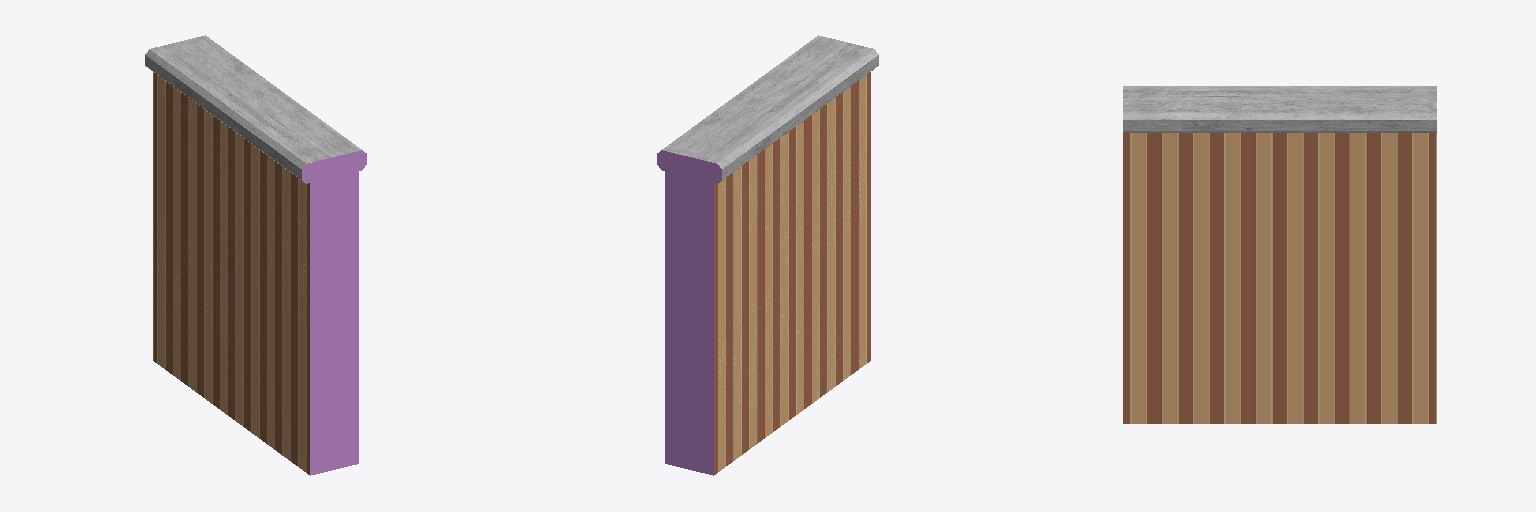
3 views of the same model, side by side, from view 1: azimuth 30°, elevation 25°; view 2: azimuth 150°, elevation 25°; view 3: azimuth 270°, elevation 25° (orthographic).
Visible parts, largest first — view 1: muro_exterior; view 2: muro_exterior; view 3: muro_exterior.
Part boxes in pixels (x1,y1,x2,y2): muro_exterior: (145, 35, 366, 475); muro_exterior: (657, 35, 878, 475); muro_exterior: (1123, 86, 1436, 423).
Bounding box in the file's own units: 7.84 × 35.99 × 32.71.
3 materials, 2 textured.